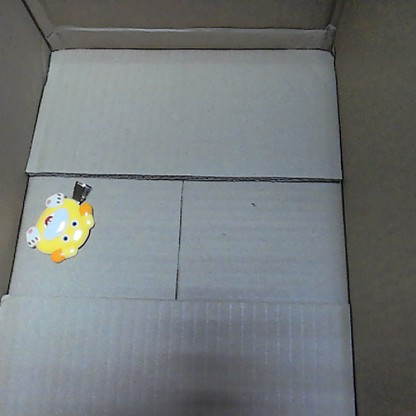dogclip: (29, 180, 94, 262)
